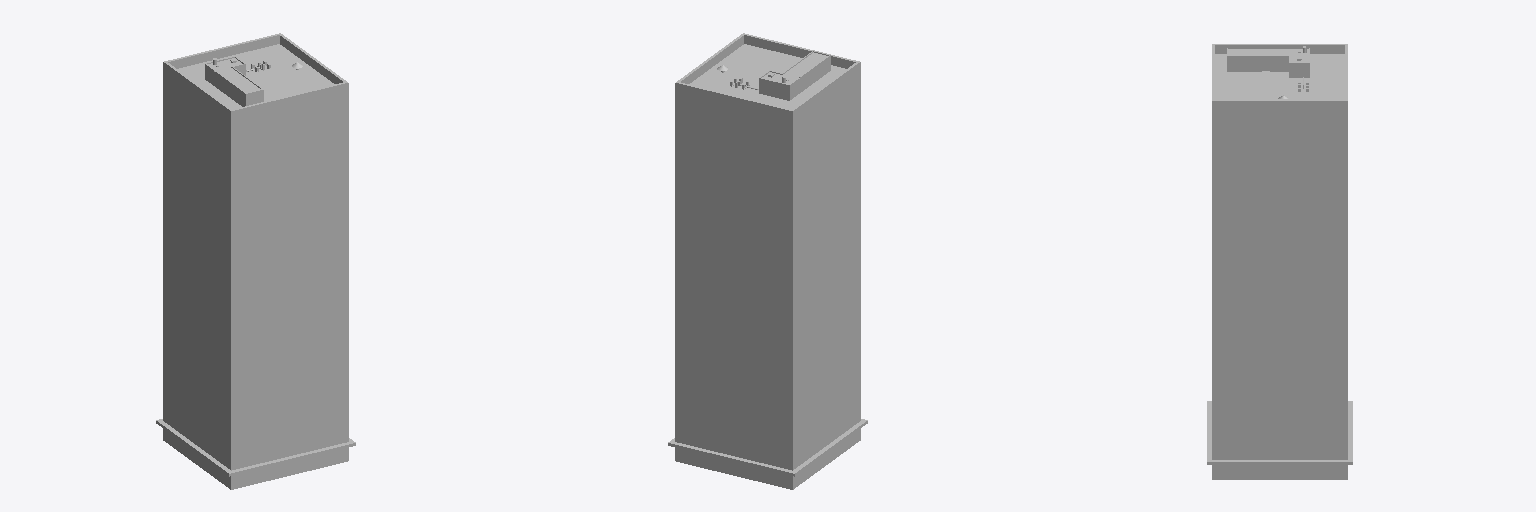
The model's file is budynek5.obj.
The picture shows the model from 3 angles: view 1: azimuth 30°, elevation 25°; view 2: azimuth 150°, elevation 25°; view 3: azimuth 270°, elevation 25°; orthographic projection.
Parts seen in each view (by area): view 1: HighRise1_Cube.001; view 2: HighRise1_Cube.001; view 3: HighRise1_Cube.001.
Boxes of the visible parts, x1=… form: HighRise1_Cube.001: x1=156, y1=33, x2=355, y2=489; HighRise1_Cube.001: x1=668, y1=33, x2=867, y2=489; HighRise1_Cube.001: x1=1207, y1=44, x2=1352, y2=479.
Size of the model in its own units: 2.16 by 6.35 by 2.16.